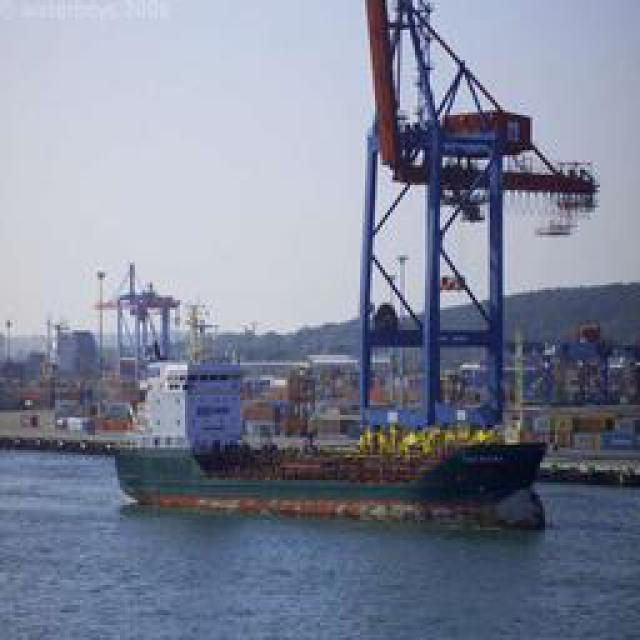Ship: (121, 441, 546, 524)
